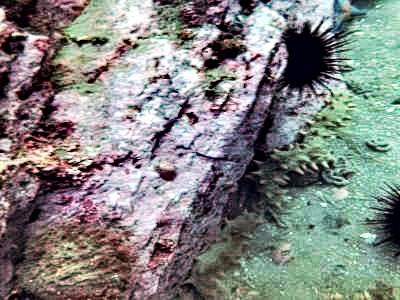urchin: (276, 15, 358, 101), (359, 179, 397, 260)
